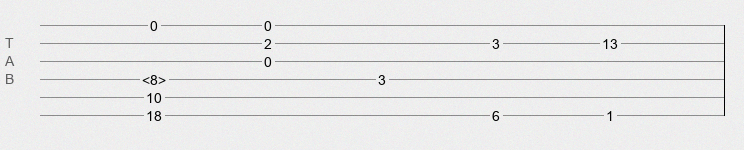0: (150, 18, 158, 28), (264, 18, 272, 28), (264, 54, 272, 64)
1: (606, 108, 614, 118)
10: (146, 90, 162, 100)
13: (602, 36, 618, 46)
18: (146, 108, 162, 118)
2: (264, 36, 272, 46)
3: (378, 72, 386, 82), (492, 36, 500, 46)
6: (492, 108, 500, 118)
harmonic: (142, 72, 166, 82)
